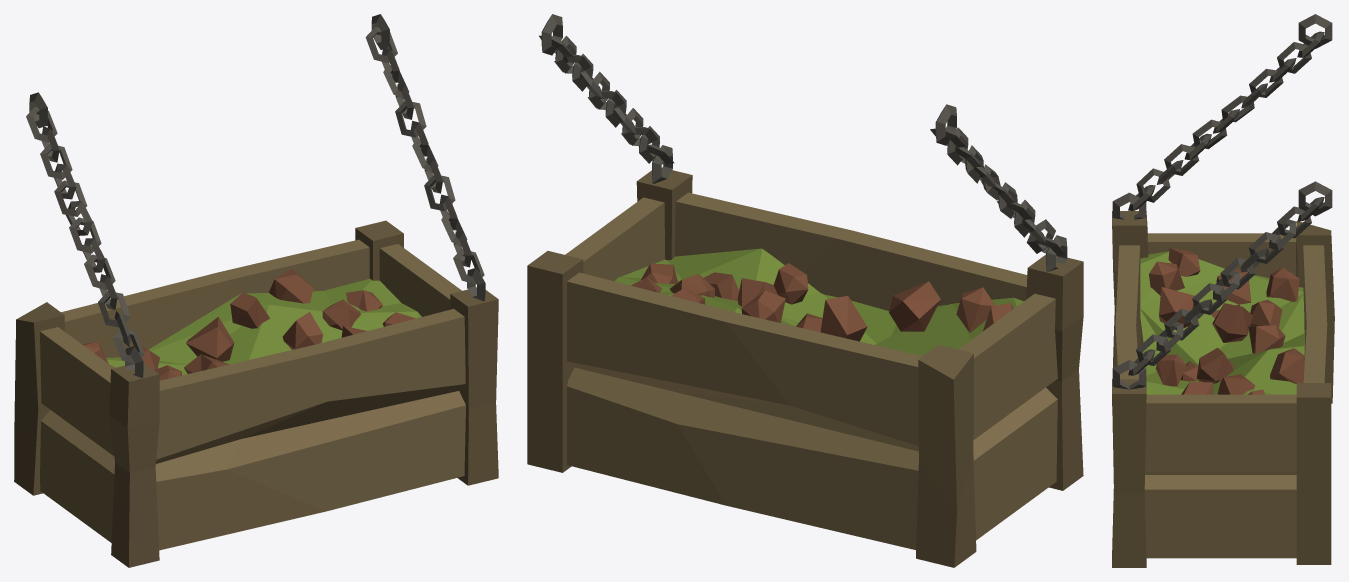
File: Planter.fbx
The picture shows the model from 3 angles, left to right: view 1: azimuth 30°, elevation 25°; view 2: azimuth 150°, elevation 25°; view 3: azimuth 270°, elevation 25°; orthographic projection. The views are drawn at different scales.
Parts seen in each view (by area): view 1: Planter; view 2: Planter; view 3: Planter.
Boxes of the visible parts, left/top/right/bottom form: Planter: left=14, top=14, right=498, bottom=567; Planter: left=527, top=14, right=1083, bottom=567; Planter: left=1112, top=14, right=1334, bottom=567.
Bounding box in the file's own units: 143 × 145 × 76.11.
